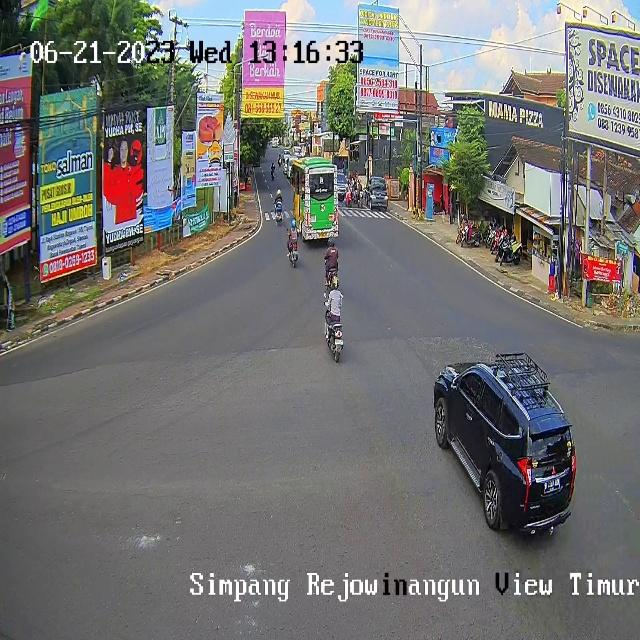bus: (325, 310, 344, 362), (289, 240, 299, 267), (274, 208, 284, 226), (328, 269, 338, 280), (346, 190, 352, 208), (359, 188, 364, 208), (354, 188, 359, 204)
car: (292, 157, 339, 240)
motorcycle: (434, 362, 576, 533), (363, 177, 388, 210), (337, 173, 348, 196)
